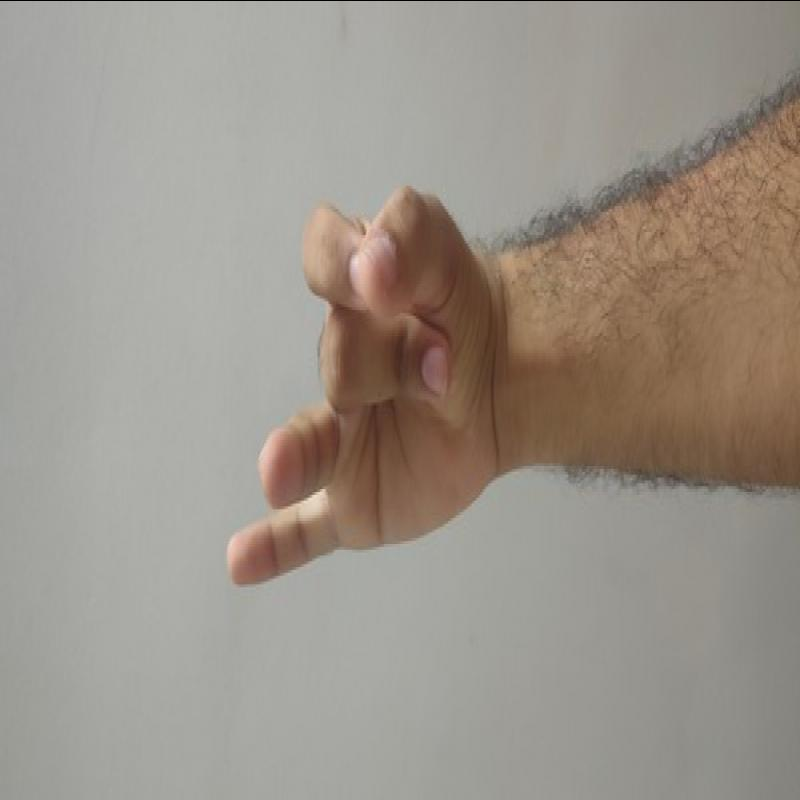Katakam: (207, 189, 513, 606)
